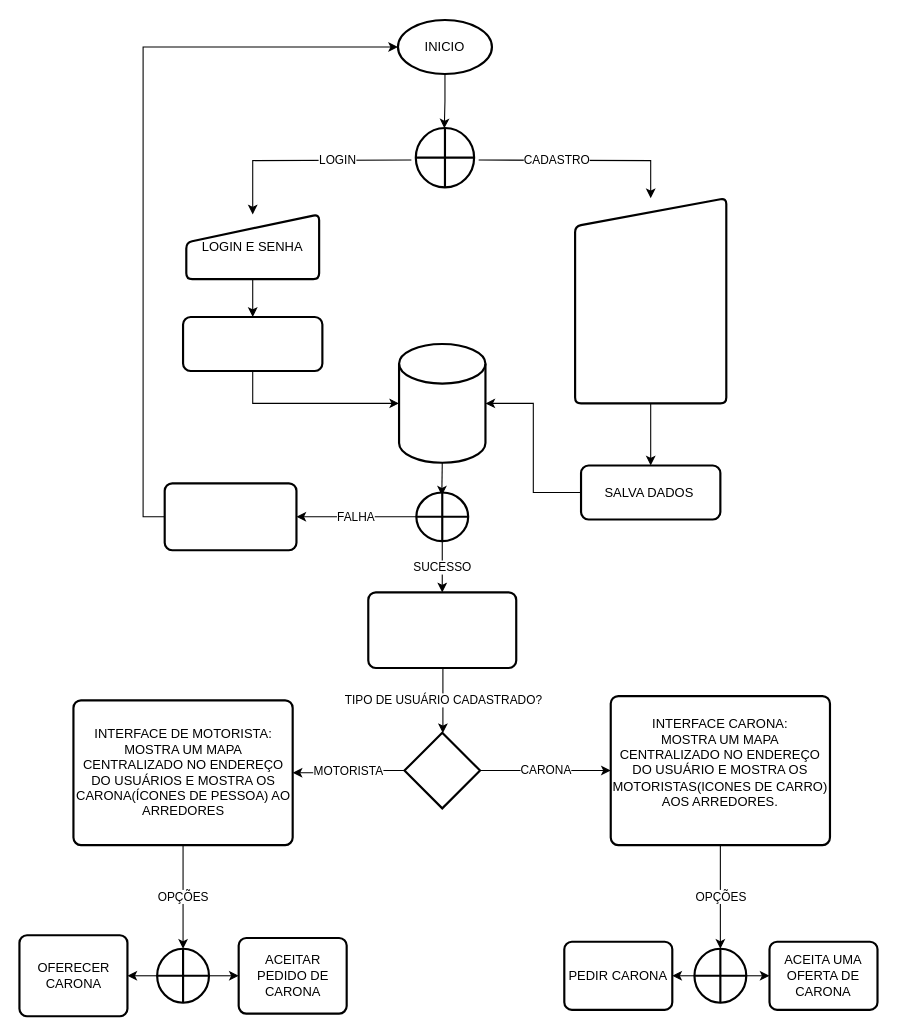
The diagram is 897 pixels wide and 1036 high, and some of its shapes have lost their labels. Each missing label, with the centre of its shape:
"APRESENTA MENSAGEM DE ERRO AO USUÁRIO" belongs at point 230,516.
"CARREGA PÁGINA INICIAL" belongs at point 442,630.
"CONSULTA DADOS" belongs at point 252,343.
"MONGO DB" belongs at point 441,402.
"NOME SOBRENOME EMAIL PERIODO DE AULA MOTORISTA OU CARONA GÊNERO ENDEREÇO" belongs at point 650,300.
